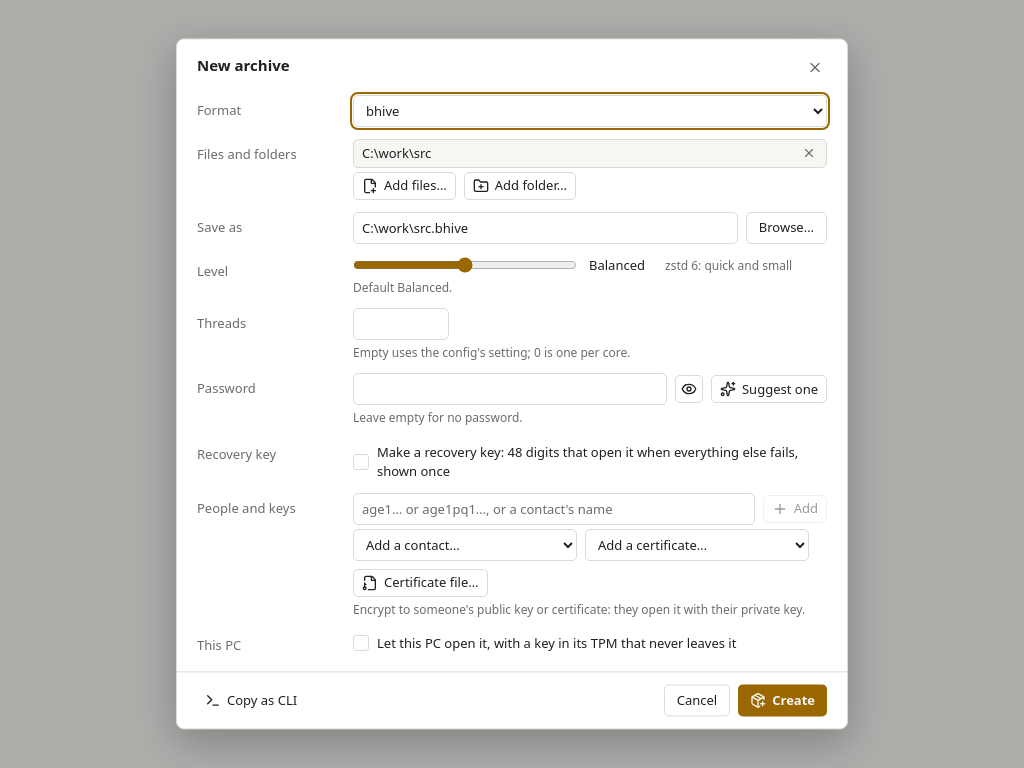
Scenario: the create dialog's Protection section (docs/M14.md §8) › points from zip's and 7z's encryption to .bhive (decision 1)
Select "zip" in the dropdown labelled "Format" at [590, 111], box [353,95,827,127]
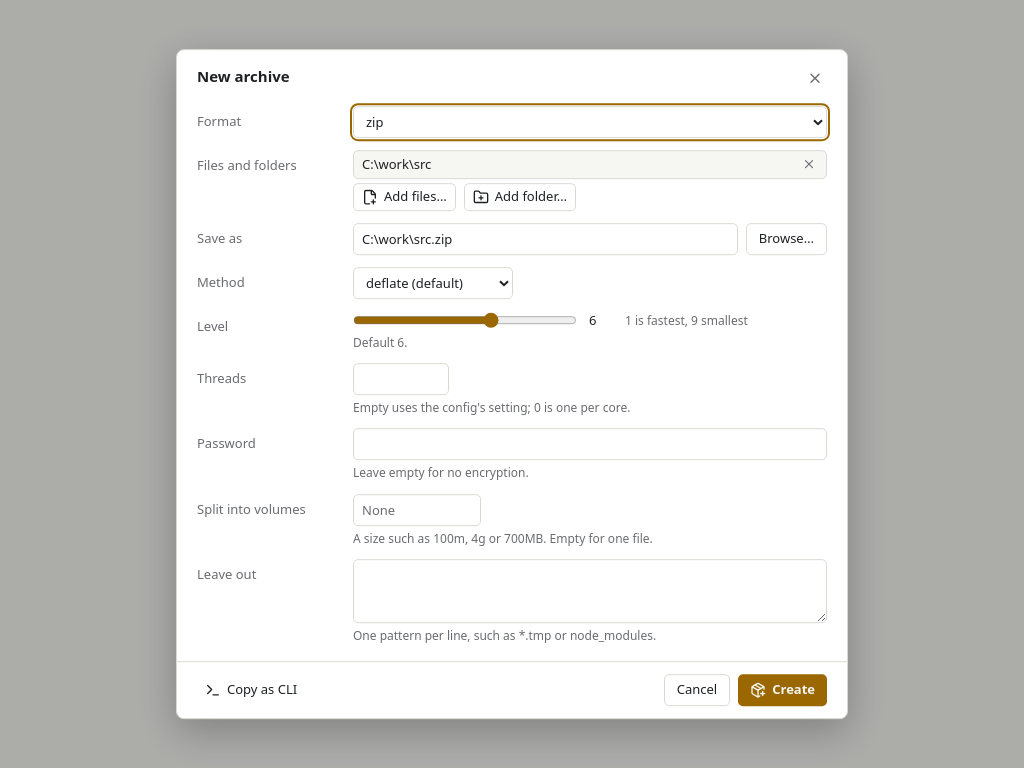
Type "pw" into the password field labelled "Password" at [590, 445], box [353,429,827,461]
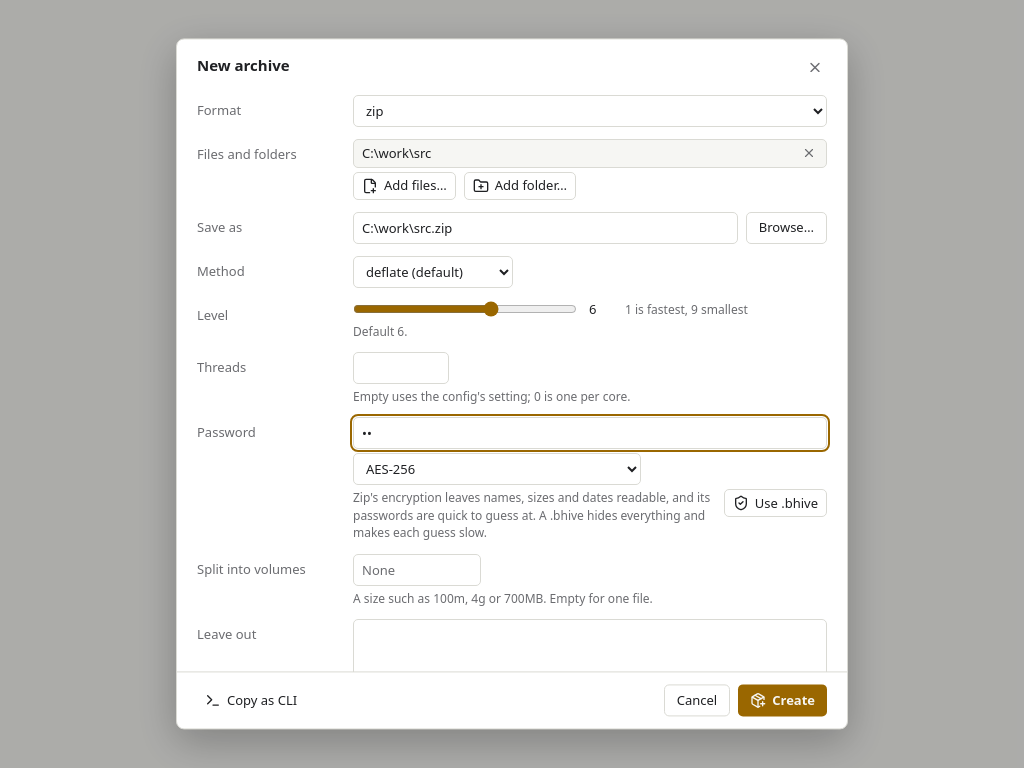
Now the text "Zip's encryption leaves names, sizes and dates readable" is shown, box [353,490,710,524]
Select "7z" in the dropdown labelled "Format" at [590, 111], box [353,95,827,127]
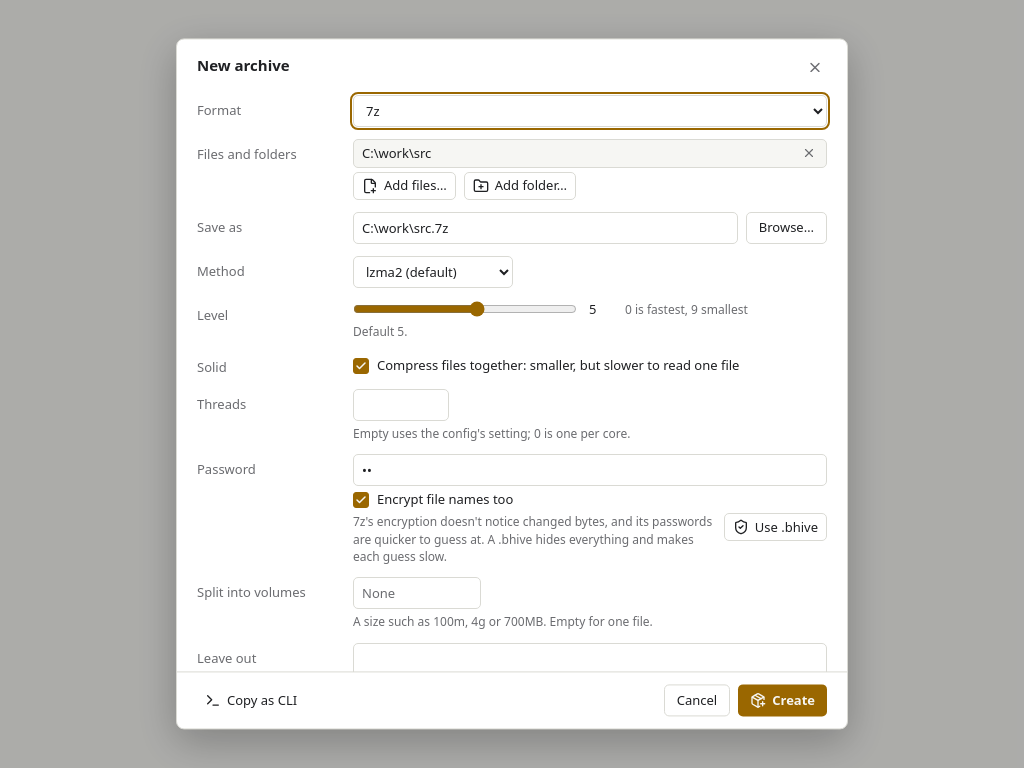
Now the text "7z's encryption doesn't notice changed bytes" is shown, box [353,514,712,548]
Click the button "Use .bhive" at [775, 528], box [724,514,827,542]
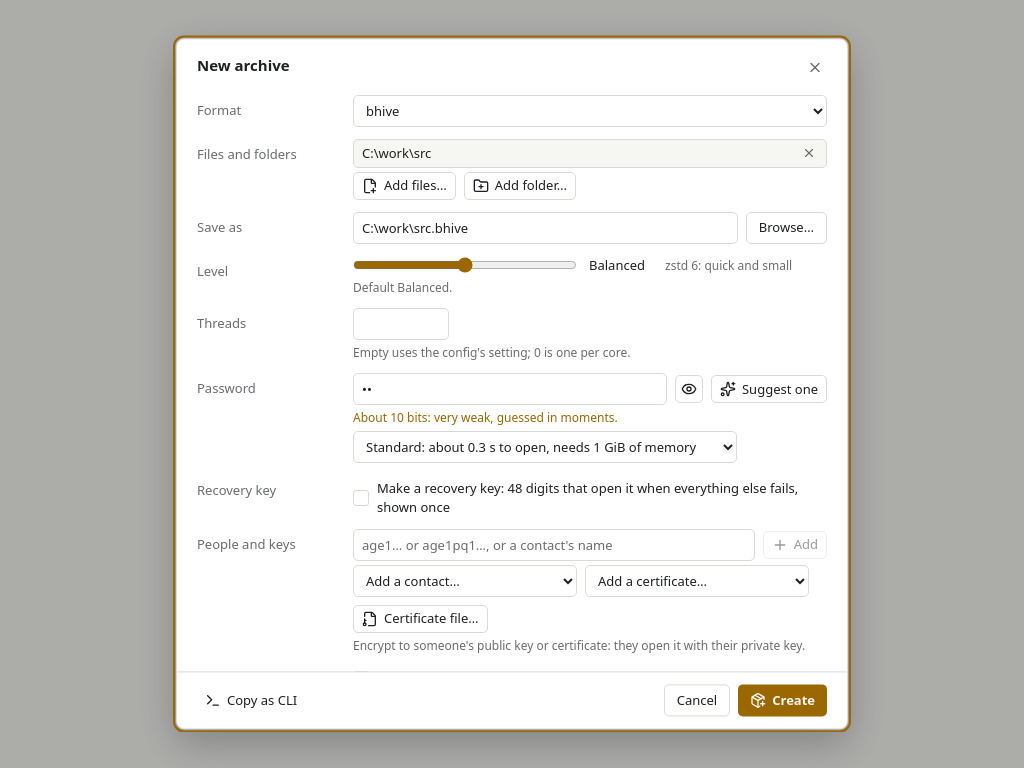
Now the password field labelled "Password" holds "pw", box [353,374,667,406]
Now the field labelled "Save as" holds "C:\\work\\src.bhive", box [353,212,738,244]
